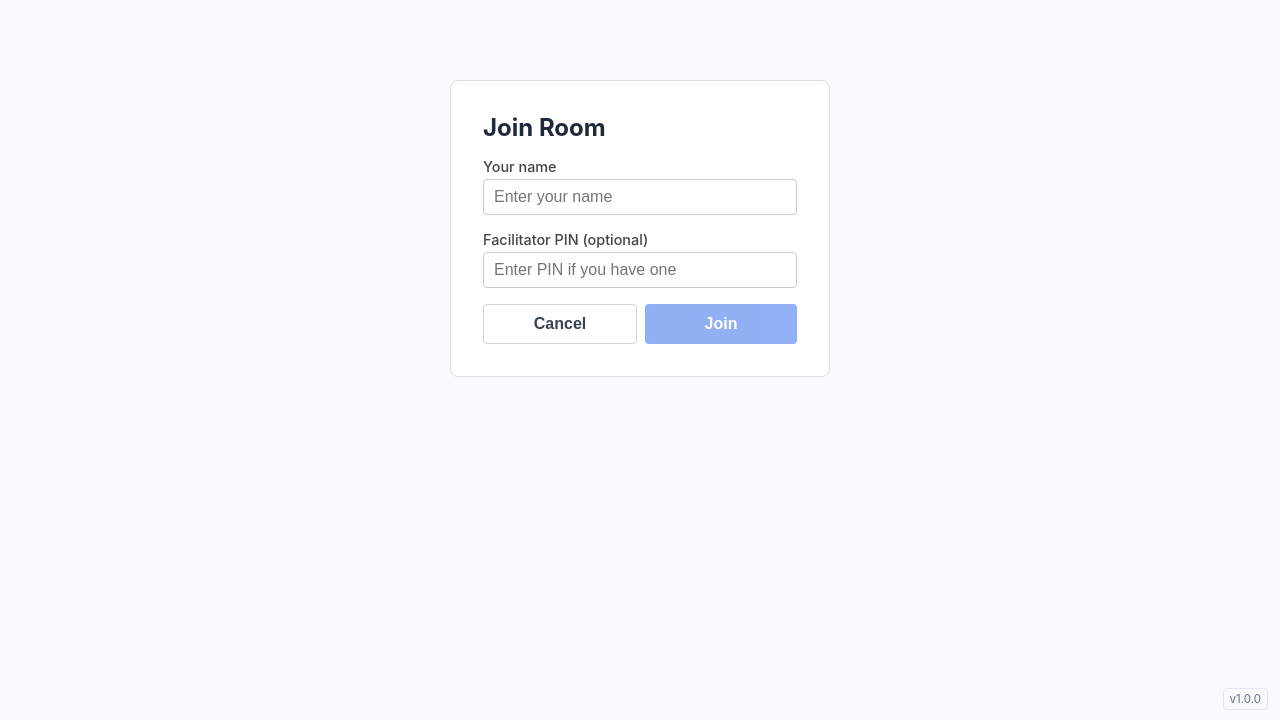
Test: App.svelte page state machine › handleLeave disconnects, clears URL params, and returns home
Type "Frank" into the field labelled "Your name". click: (640, 197)
box: [483,179,797,215]
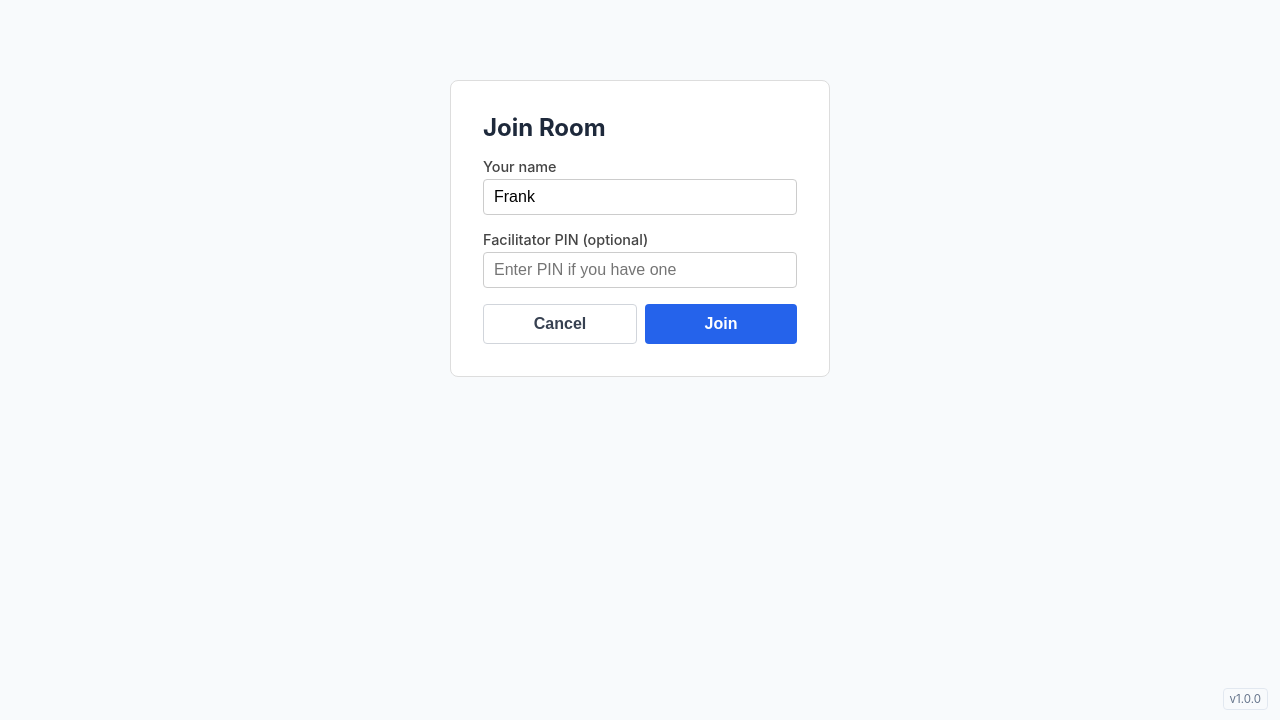
Click the button "Join". click: (721, 324)
box: [645,304,797,344]
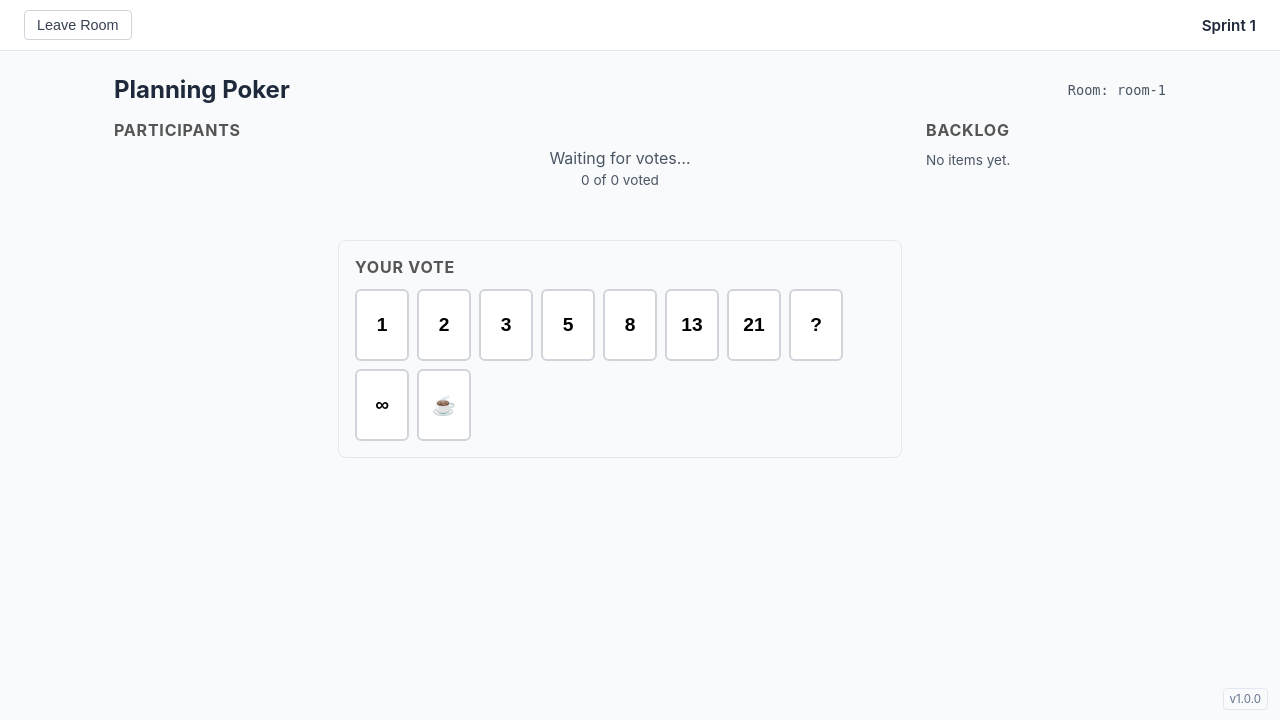
Click the button "Leave Room". click: (78, 25)
box: [24,10,132,40]
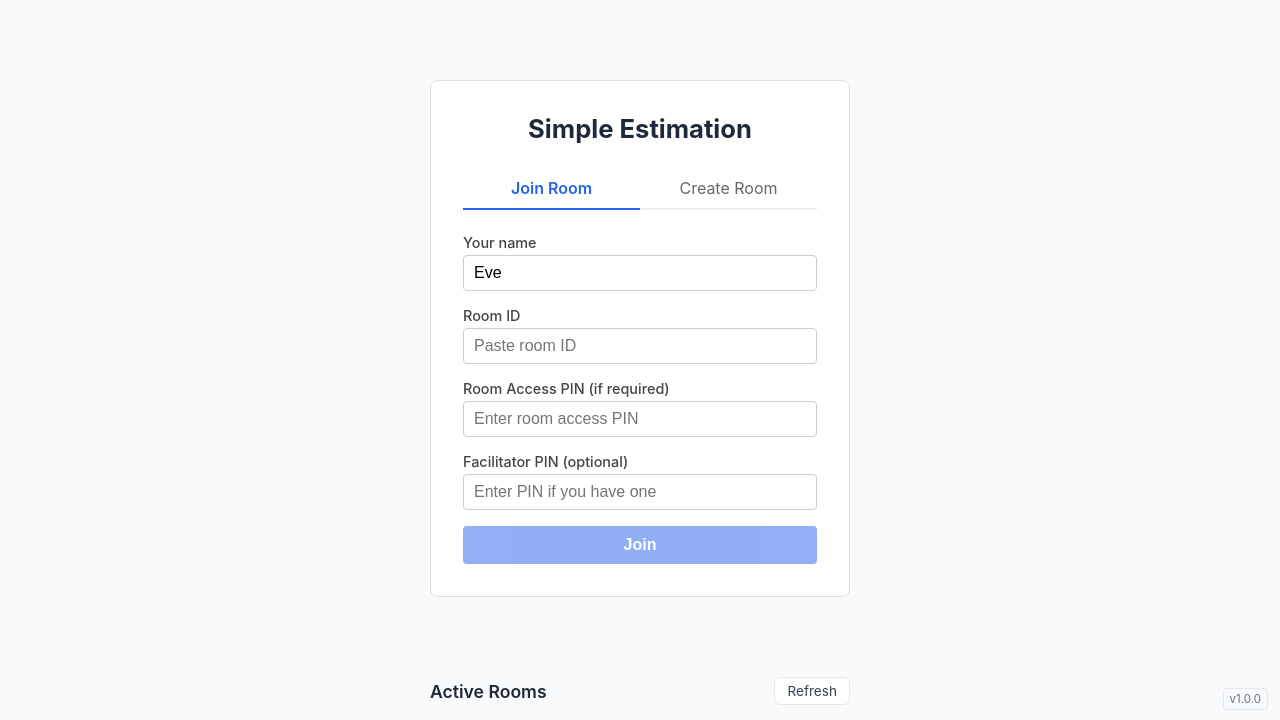
Expected: the element showing "Join Room Create Room" is shown, [463,168,817,210]
